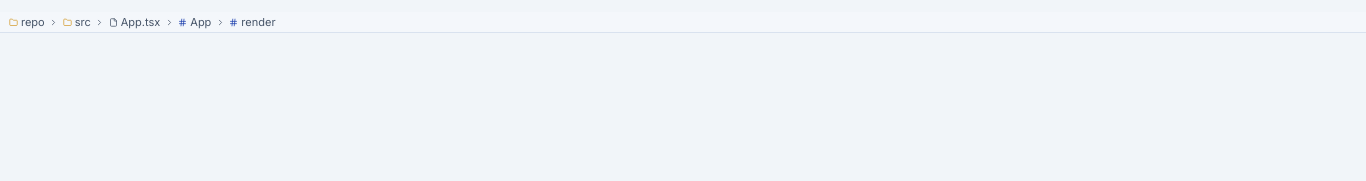
Breadcrumbs › opens an IDEA-style path popup with children and actions on segment click
This screenshot has width=1366, height=181.
Click the button "src" at x=77, y=22, box [60,14,94,30]
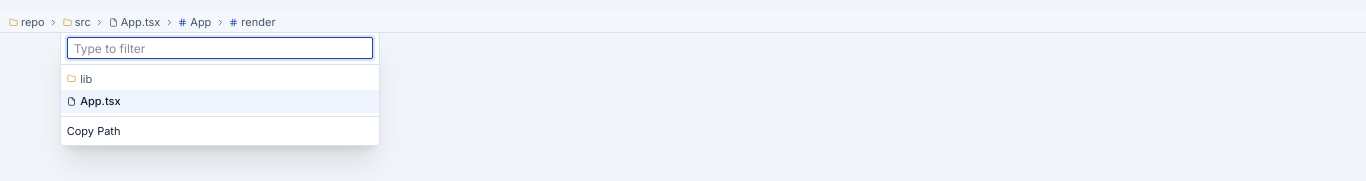
Expected: the list with test id "code-workspace-breadcrumb-popup" is shown, [60,32,380,146]
Expected: the option "lib" is shown
Expected: the option "App.tsx" is shown, [61,90,379,112]
Click the option "lib" at x=71, y=79, box [61,68,379,90]
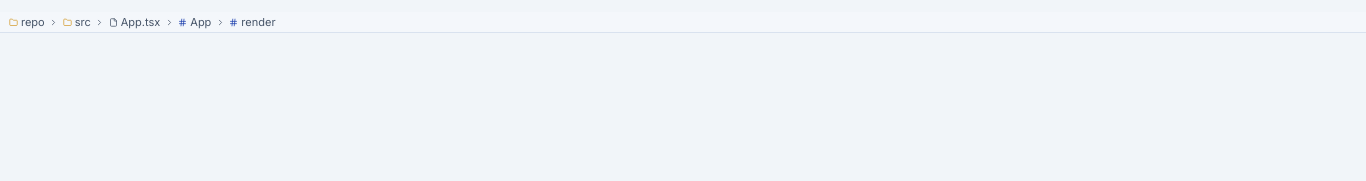
Expected: the list with test id "code-workspace-breadcrumb-popup" is gone
